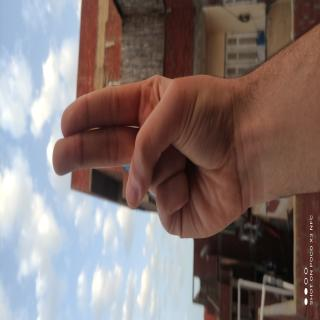TA: (32, 106, 115, 320)
